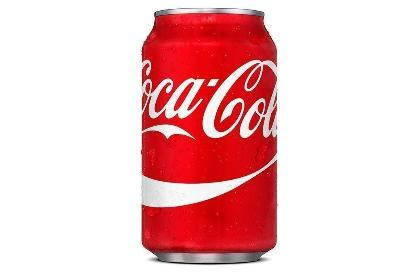Can: (140, 5, 280, 265)
